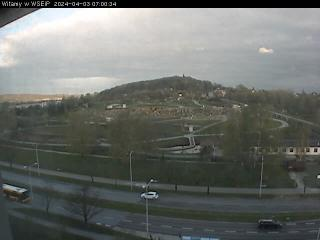bus: (0, 182, 32, 206)
car: (256, 218, 284, 232), (140, 190, 158, 201)
